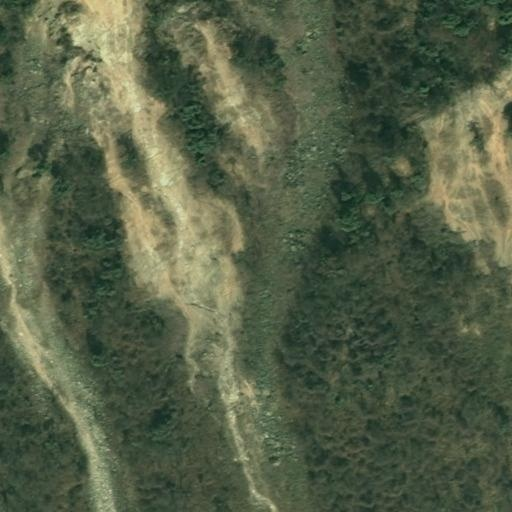landslide: (58, 2, 279, 397), (416, 68, 511, 271)
